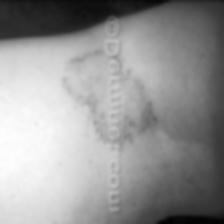Toxin: (60, 46, 160, 148)
